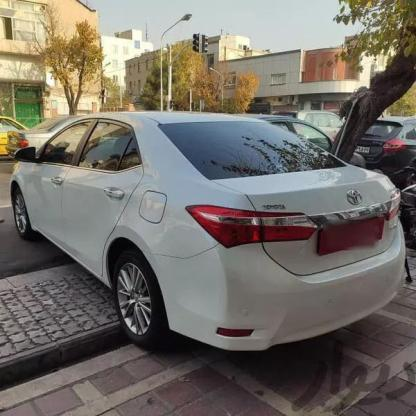Car: (0, 118, 416, 351), (352, 104, 416, 199), (0, 118, 120, 154)
